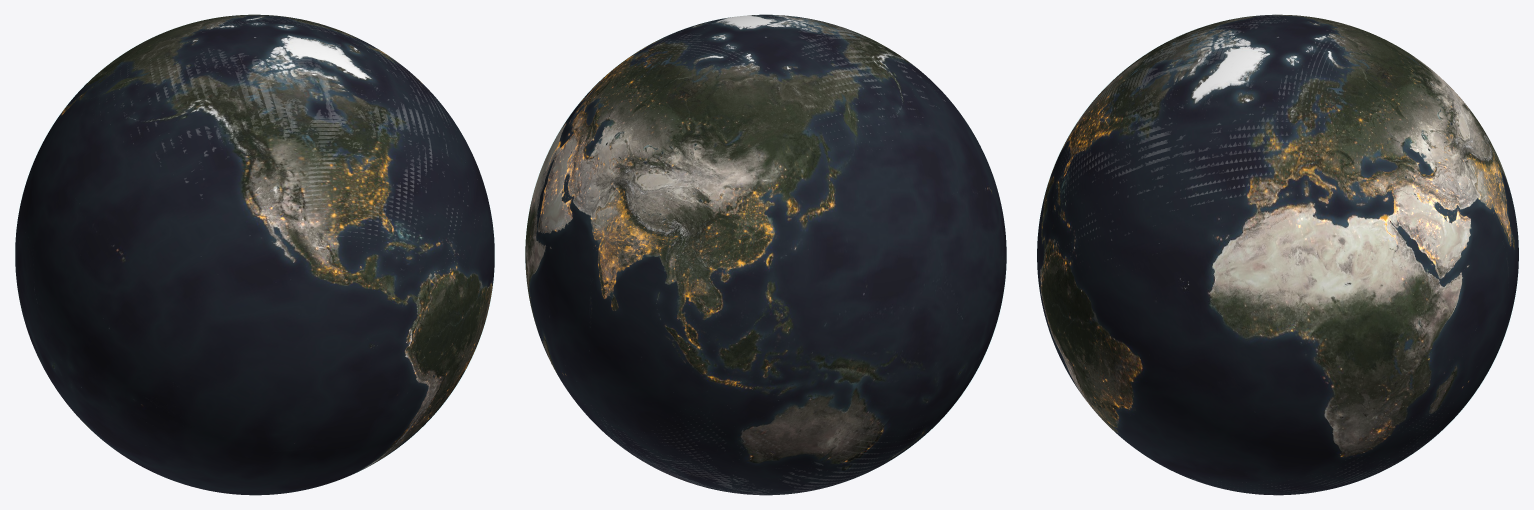
File: earth_-_16k_high_resolution.glb
The picture shows the model from 3 angles, left to right: view 1: azimuth 30°, elevation 25°; view 2: azimuth 150°, elevation 25°; view 3: azimuth 270°, elevation 25°; orthographic projection.
Visible parts, largest first — view 1: Earth_Geo2, Clouds_Geo2, Atmosphere_Geo2; view 2: Earth_Geo2, Clouds_Geo2, Atmosphere_Geo2; view 3: Earth_Geo2, Clouds_Geo2, Atmosphere_Geo2.
Boxes of the visible parts, bbox=[...] form: Earth_Geo2: bbox=[15, 14, 494, 495]; Clouds_Geo2: bbox=[131, 31, 467, 250]; Atmosphere_Geo2: bbox=[14, 14, 495, 495]; Earth_Geo2: bbox=[525, 14, 1006, 495]; Clouds_Geo2: bbox=[663, 16, 944, 494]; Atmosphere_Geo2: bbox=[524, 14, 1007, 495]; Earth_Geo2: bbox=[1037, 14, 1518, 495]; Clouds_Geo2: bbox=[1066, 18, 1429, 482]; Atmosphere_Geo2: bbox=[1036, 14, 1519, 495].
Size of the model in its own units: 1.04 by 1.04 by 1.04.
9 materials, 8 textured.
